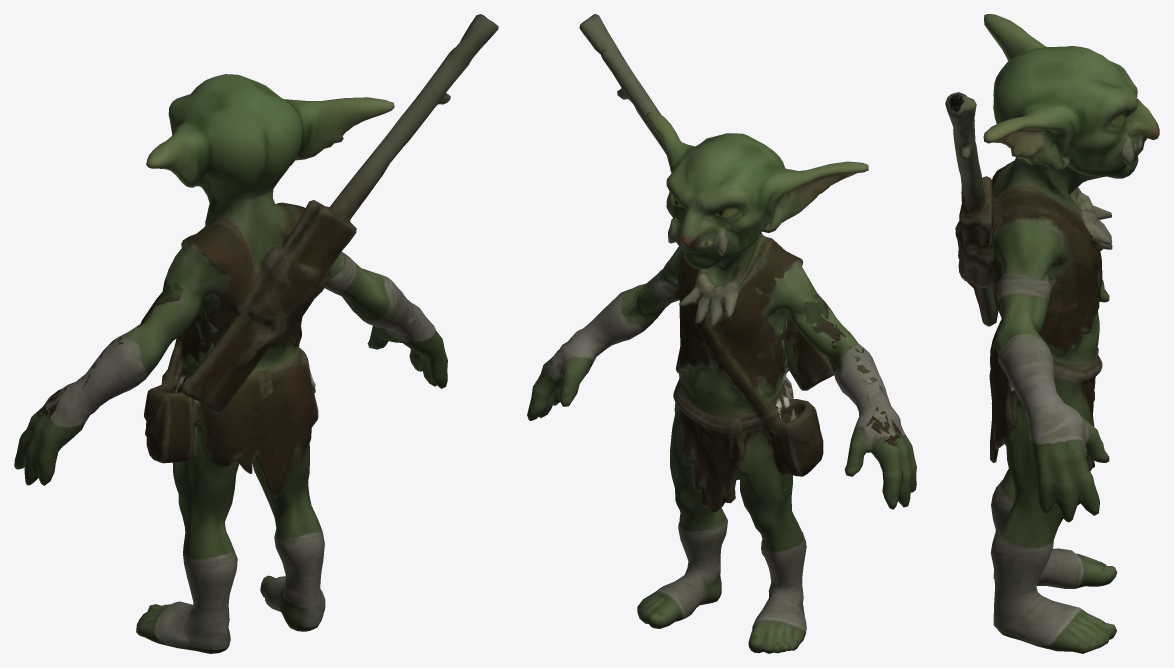
The model's file is Gobelin_Sarbacanier_propre.glb.
3 views of the same model, side by side, from view 1: azimuth 30°, elevation 25°; view 2: azimuth 150°, elevation 25°; view 3: azimuth 270°, elevation 25° (orthographic). The views are drawn at different scales.
Parts seen in each view (by area): view 1: Gobelin_Sarbacanier; view 2: Gobelin_Sarbacanier; view 3: Gobelin_Sarbacanier.
Boxes of the visible parts, x1,y1,x2,y2 form: Gobelin_Sarbacanier: (14, 14, 498, 653); Gobelin_Sarbacanier: (527, 14, 916, 653); Gobelin_Sarbacanier: (945, 14, 1159, 653).
Bounding box in the file's own units: 2.95 × 4.02 × 1.26.
Materials: 1 (1 with a texture image).
